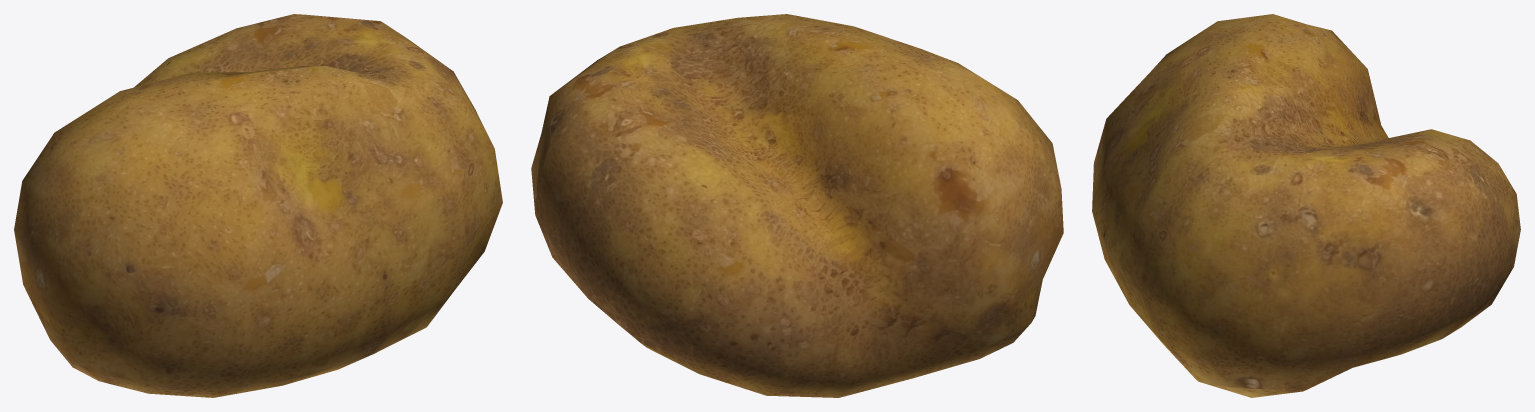
Rendered from A35_Potato_low.fbx.
The picture shows the model from 3 angles, left to right: view 1: azimuth 30°, elevation 25°; view 2: azimuth 150°, elevation 25°; view 3: azimuth 270°, elevation 25°; orthographic projection. The views are drawn at different scales.
Visible parts, largest first — view 1: A35_Potato_low; view 2: A35_Potato_low; view 3: A35_Potato_low.
Part boxes in pixels (box(x1,y1,x2,y2)): A35_Potato_low: box(14, 14, 502, 397); A35_Potato_low: box(531, 14, 1063, 397); A35_Potato_low: box(1092, 14, 1520, 397).
Size of the model in its own units: 9.03 by 7.67 by 5.66.
1 material, 1 textured.
